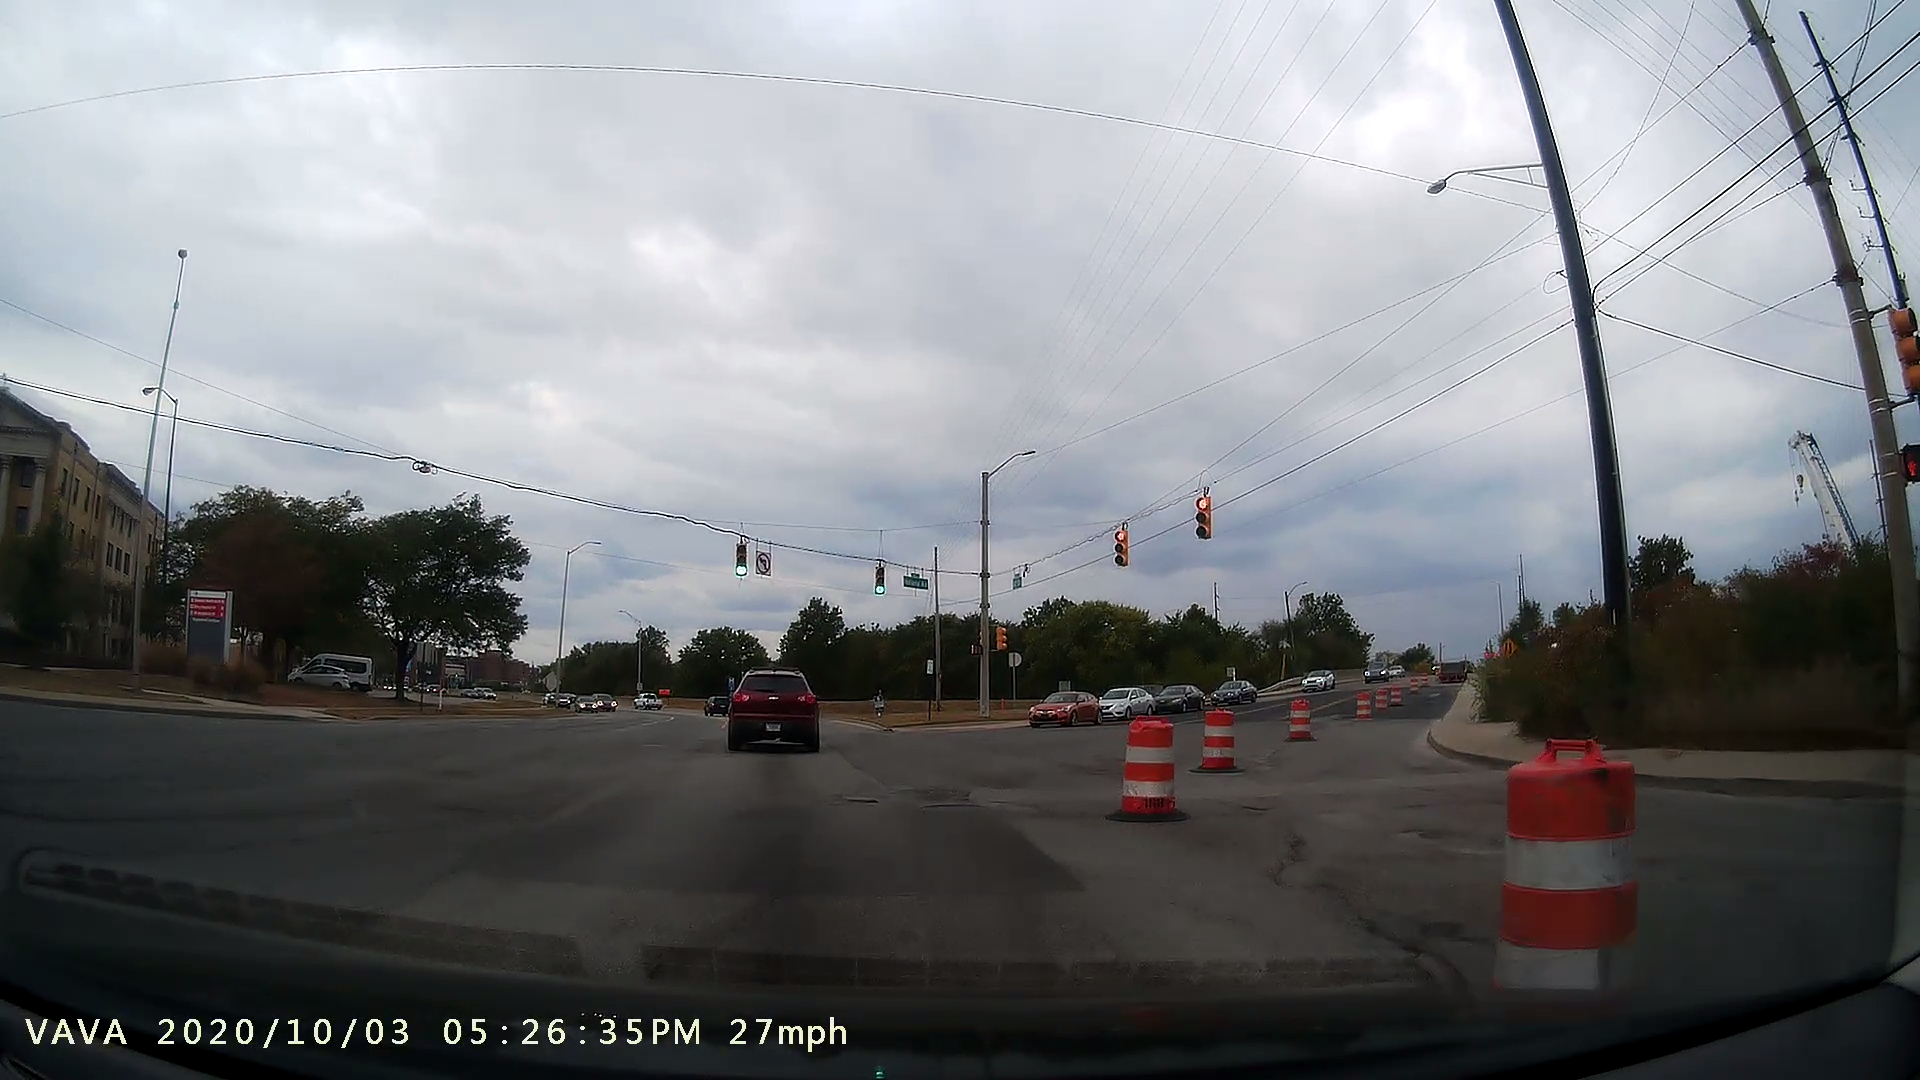const_barrel: (1098, 712, 1197, 829), (1193, 700, 1246, 790), (1280, 680, 1325, 758)
